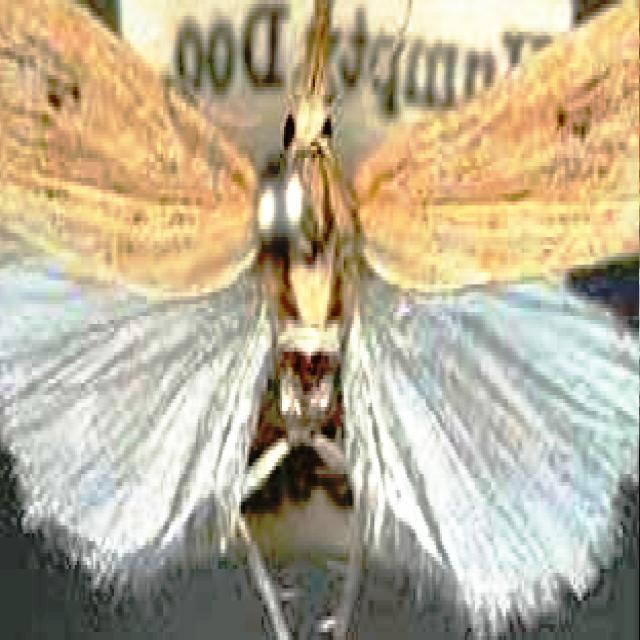stem-borer: (0, 0, 639, 640)
